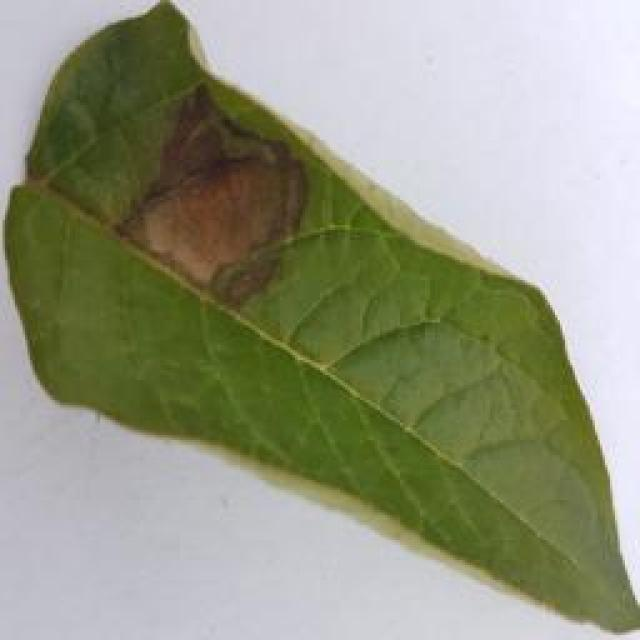Potato_Late_Blight: (9, 6, 624, 633)
